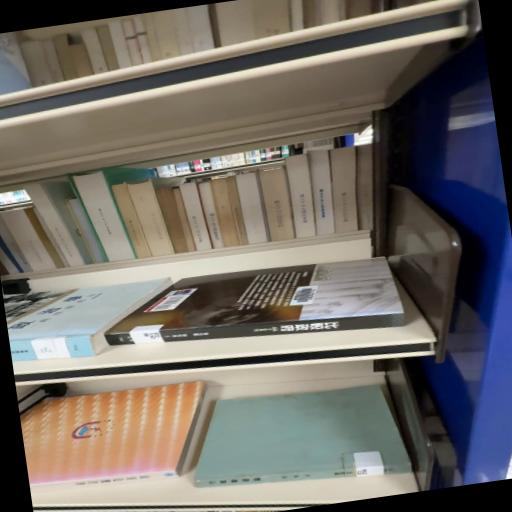flat: (107, 258, 406, 346), (195, 386, 412, 489), (21, 382, 211, 495), (5, 279, 172, 363)
